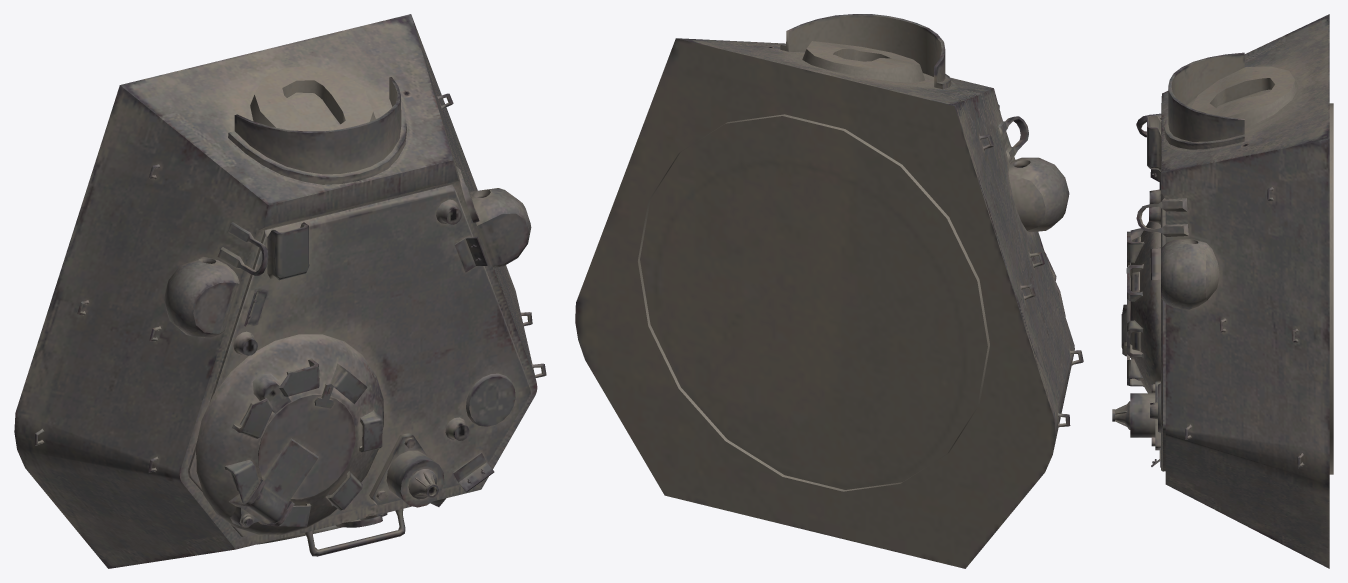
Rendered from Turret_02.glb.
The picture shows the model from 3 angles, left to right: view 1: azimuth 30°, elevation 25°; view 2: azimuth 150°, elevation 25°; view 3: azimuth 270°, elevation 25°; orthographic projection. The views are drawn at different scales.
Visible parts, largest first — view 1: set_0_group_0; view 2: set_0_group_0; view 3: set_0_group_0.
Part boxes in pixels (box(x1,y1,x2,y2)): set_0_group_0: box(14, 14, 546, 568); set_0_group_0: box(575, 14, 1083, 568); set_0_group_0: box(1112, 14, 1333, 568).
Bounding box in the file's own units: 2.59 × 2.37 × 1.12.
1 material, 1 textured.
